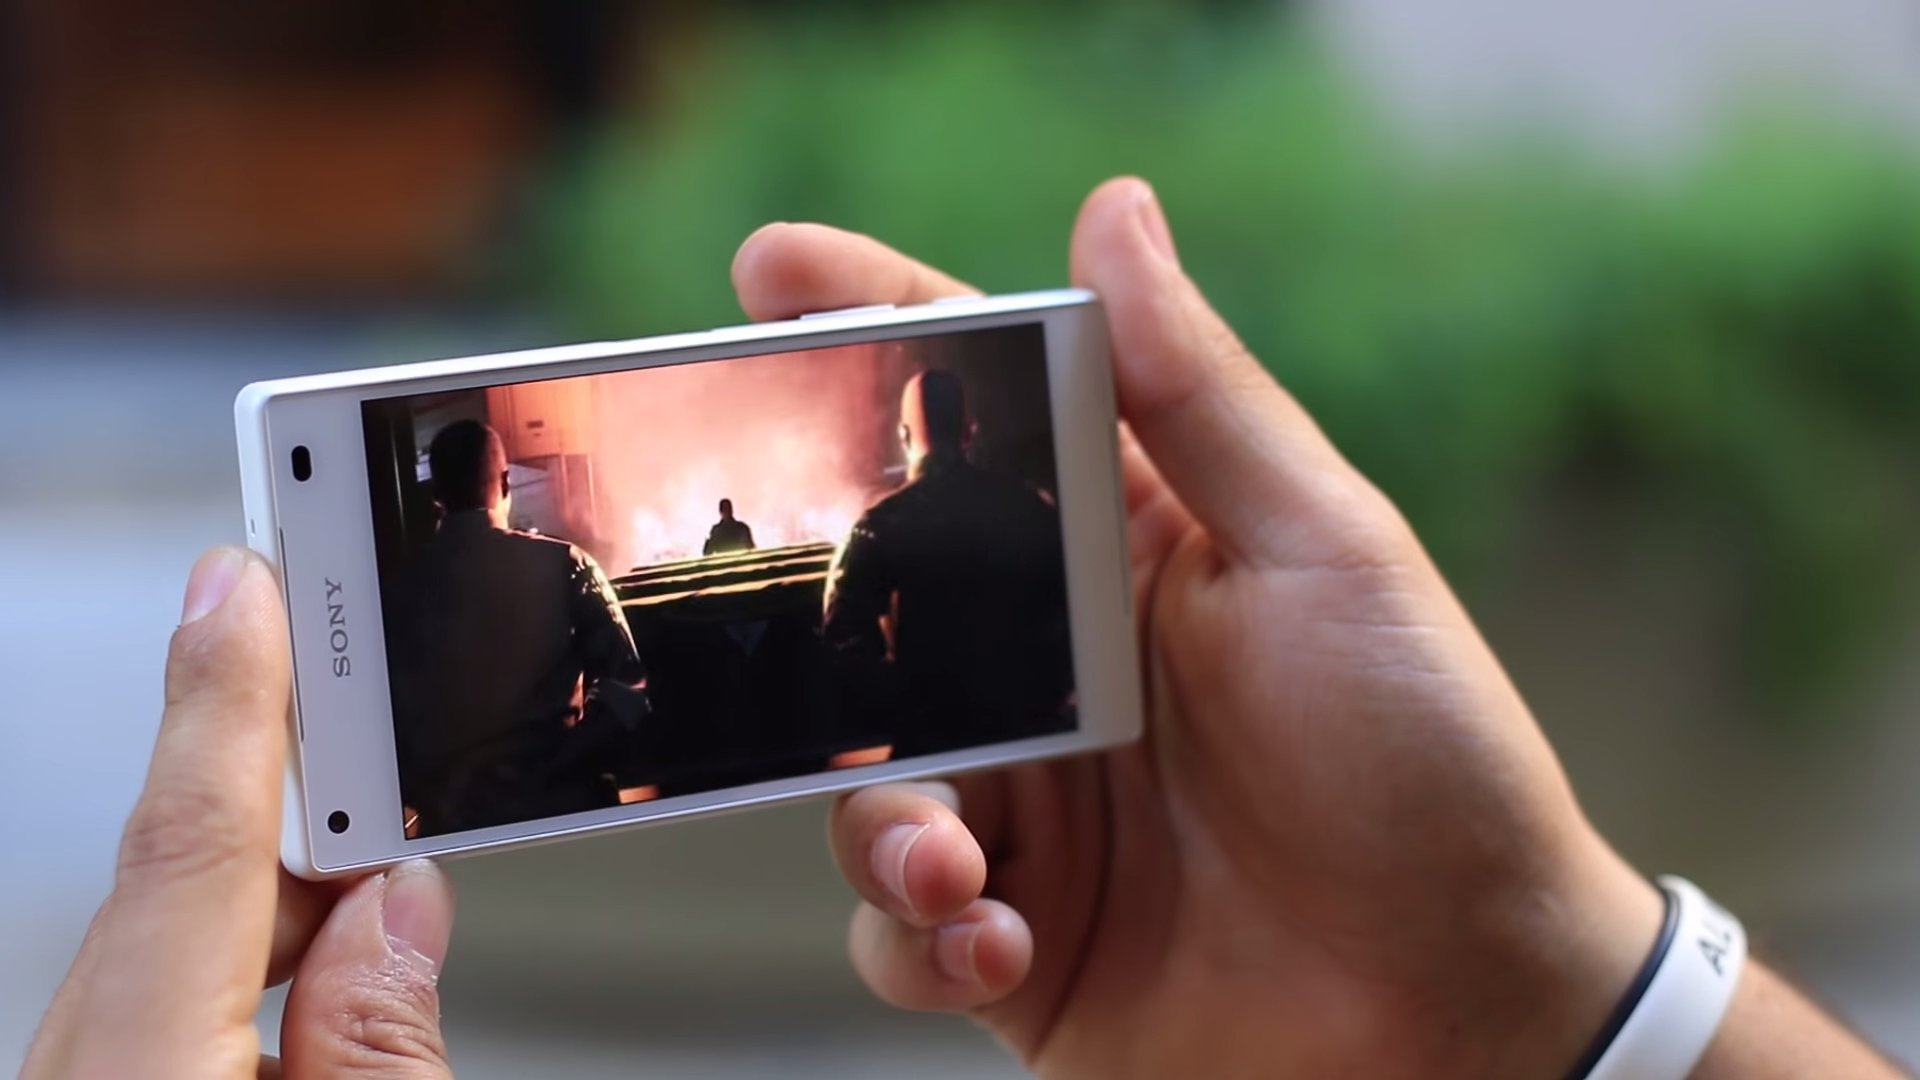smartphone: (233, 284, 1149, 881)
